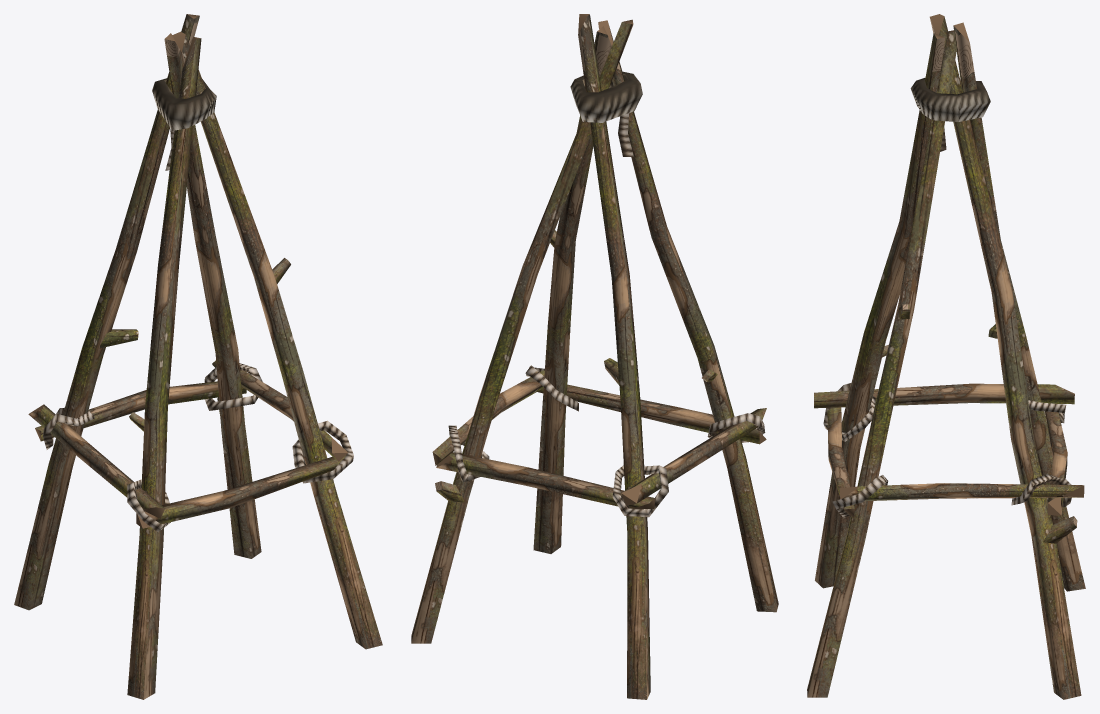
Rendered from trellis10.fbx.
3 views of the same model, side by side, from view 1: azimuth 30°, elevation 25°; view 2: azimuth 150°, elevation 25°; view 3: azimuth 270°, elevation 25° (orthographic).
Parts seen in each view (by area): view 1: trellis10; view 2: trellis10; view 3: trellis10.
Part boxes in pixels (x1,y1,x2,y2): trellis10: (14, 14, 382, 699); trellis10: (411, 14, 778, 699); trellis10: (807, 14, 1085, 699).
Bounding box in the file's own units: 91.91 × 215 × 88.07.
